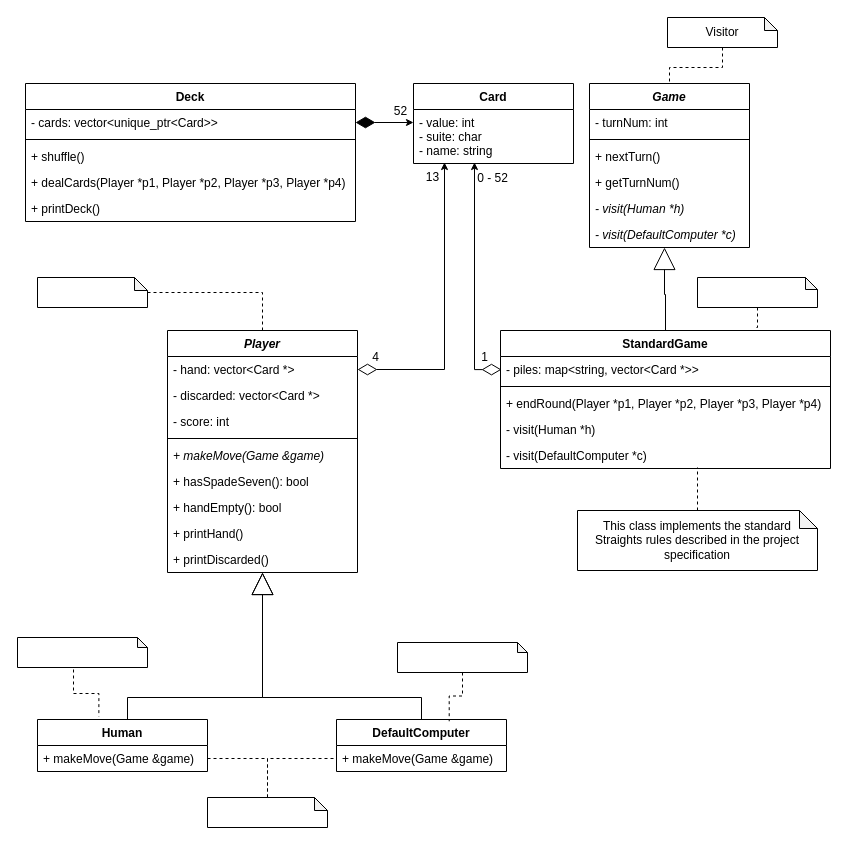
This 848x845 diagram has some shape labels left out. The centre of each missing label's shape, as x and y in pixels:
"ConcreteElementA" belongs at point (82, 652).
"ConcreteElementB" belongs at point (462, 657).
"ConcreteVisitor1" belongs at point (757, 292).
"Element" belongs at point (92, 292).
"game.visit(this)" belongs at point (267, 812).
